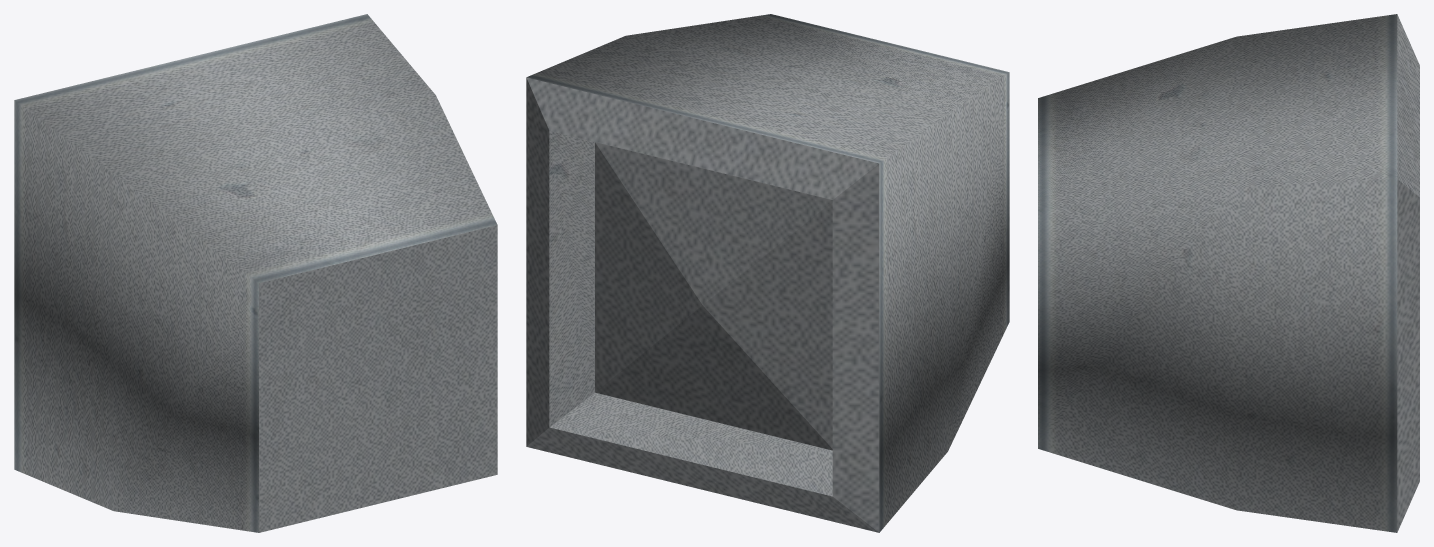
Rendered from FlowerPot01.FBX.
The picture shows the model from 3 angles, left to right: view 1: azimuth 30°, elevation 25°; view 2: azimuth 150°, elevation 25°; view 3: azimuth 270°, elevation 25°; orthographic projection. The views are drawn at different scales.
Visible parts, largest first — view 1: FlowerPot01; view 2: FlowerPot01; view 3: FlowerPot01.
Boxes of the visible parts, <box> form: FlowerPot01: <box>14,14,497,532</box>; FlowerPot01: <box>526,14,1009,532</box>; FlowerPot01: <box>1038,14,1419,532</box>.
Bounding box in the file's own units: 8.12 × 7.94 × 8.12.
